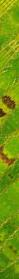Tomato leaf bacterial spot: (0, 35, 19, 244)
